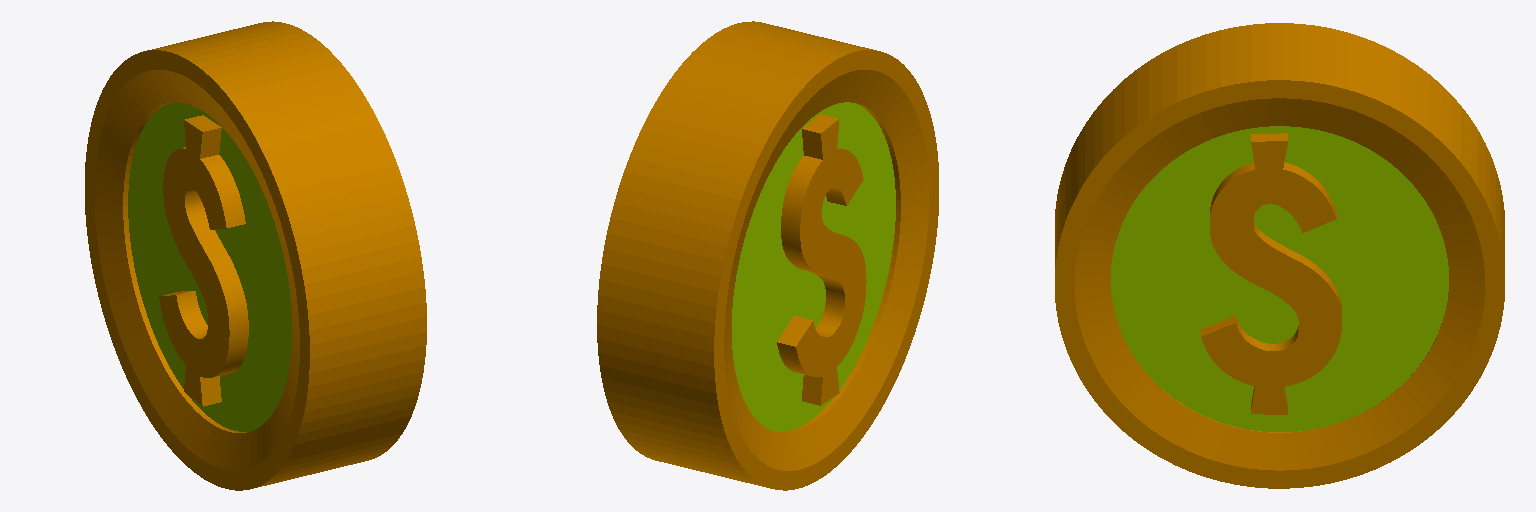
File: coin_5.obj
3 views of the same model, side by side, from view 1: azimuth 30°, elevation 25°; view 2: azimuth 150°, elevation 25°; view 3: azimuth 270°, elevation 25° (orthographic).
Parts seen in each view (by area): view 1: Cylinder_Cylinder.001, Cylinder.002_Cylinder.003, Text.001; view 2: Cylinder_Cylinder.001, Cylinder.002_Cylinder.003, Text.001; view 3: Cylinder_Cylinder.001, Cylinder.001_Cylinder.002, Text.001.
Part boxes in pixels (bbox=[...]): Cylinder_Cylinder.001: bbox=[85, 21, 426, 490]; Cylinder.002_Cylinder.003: bbox=[128, 102, 291, 431]; Text.001: bbox=[159, 115, 248, 406]; Cylinder_Cylinder.001: bbox=[597, 21, 938, 490]; Cylinder.002_Cylinder.003: bbox=[732, 102, 895, 431]; Text.001: bbox=[777, 114, 866, 405]; Cylinder_Cylinder.001: bbox=[1055, 23, 1504, 488]; Cylinder.001_Cylinder.002: bbox=[1111, 126, 1448, 431]; Text.001: bbox=[1201, 133, 1341, 414].
Size of the model in its own units: 0.6401 by 2 by 2.